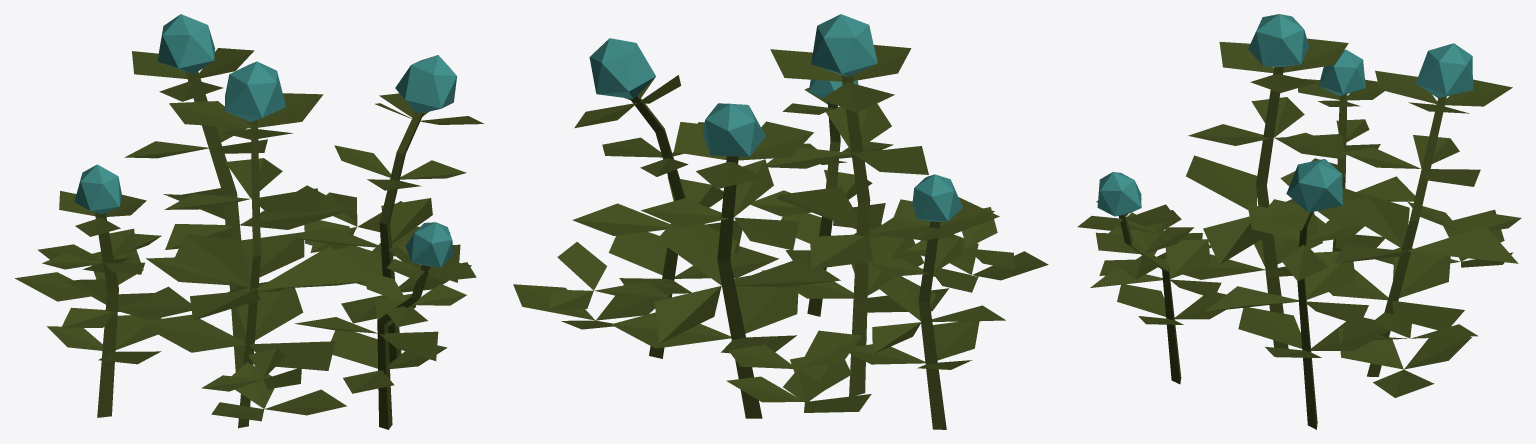
File: SM_Flower_Clover_Tall.fbx
3 views of the same model, side by side, from view 1: azimuth 30°, elevation 25°; view 2: azimuth 150°, elevation 25°; view 3: azimuth 270°, elevation 25° (orthographic). The views are drawn at different scales.
Visible parts, largest first — view 1: flower-clover-tall; view 2: flower-clover-tall; view 3: flower-clover-tall.
Part boxes in pixels (bbox=[...]): flower-clover-tall: bbox=[15, 14, 483, 429]; flower-clover-tall: bbox=[513, 14, 1048, 429]; flower-clover-tall: bbox=[1077, 14, 1521, 429].
Size of the model in its own units: 0.535 by 0.4278 by 0.4986.
